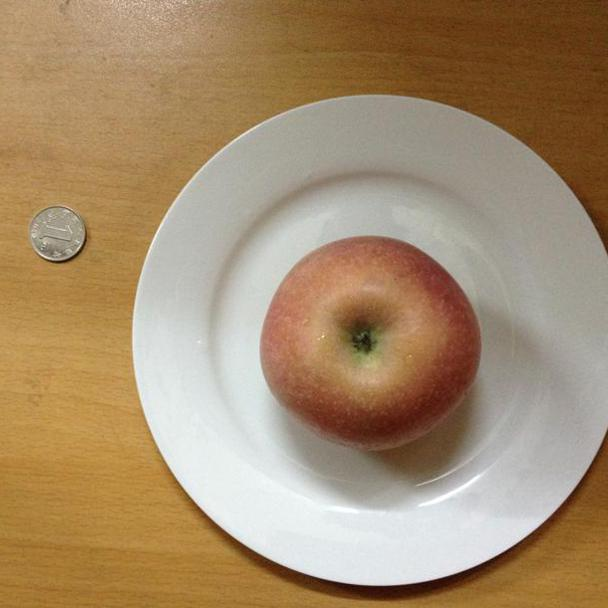apple: (259, 234, 489, 456)
